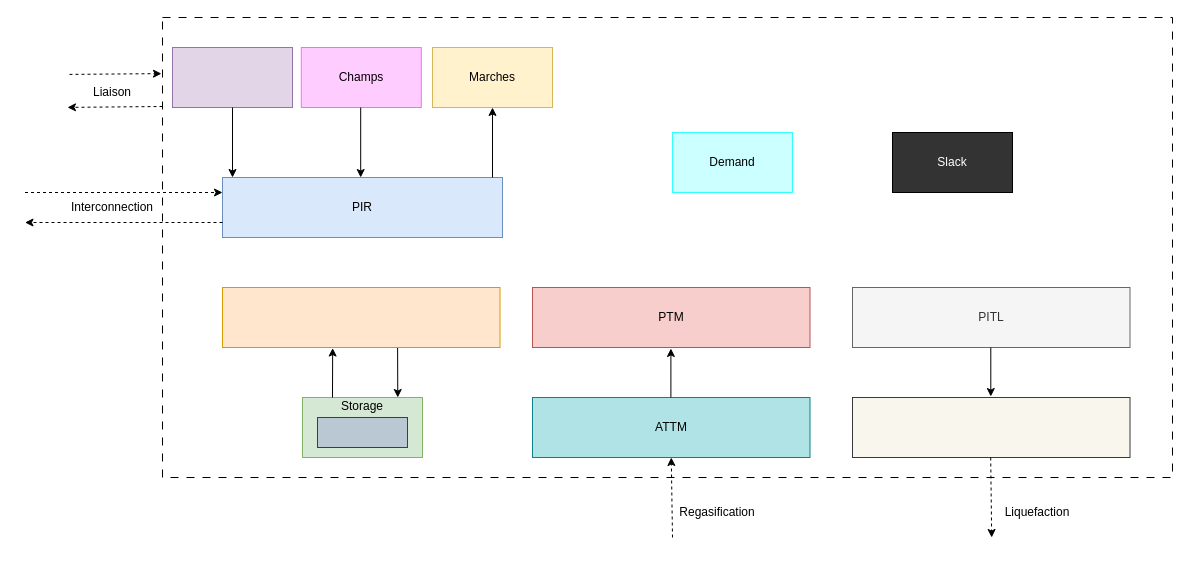
The diagram is 1190 pixels wide and 563 high, and some of its shapes have lost their labels. The centre of each missing label's shape, as x and y in pixels:
Appro: the point at 232,77
Compte Gaz: the point at 362,432
PITS: the point at 361,317
TL: the point at 991,427
